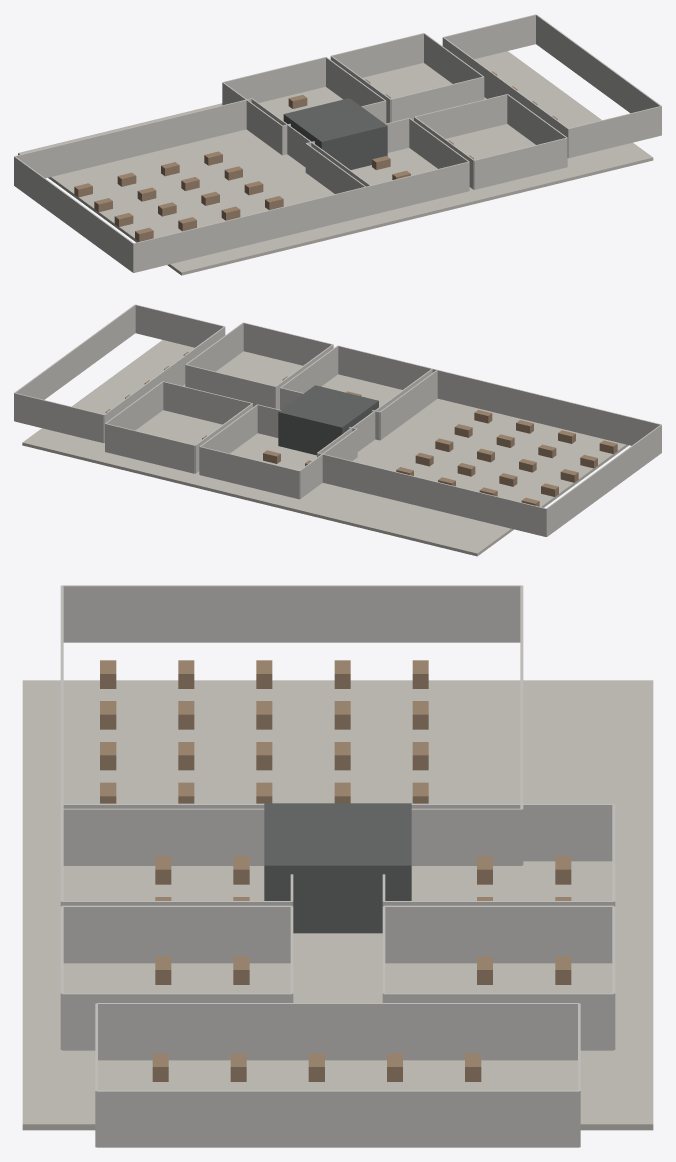
3 renders of one model, top to bottom at view 1: azimuth 30°, elevation 25°; view 2: azimuth 150°, elevation 25°; view 3: azimuth 270°, elevation 25°, orthographic. The views are drawn at different scales.
Visible parts, largest first — view 1: L4_slab, flex_neighborhood_north, flex_neighborhood_south, L4_core, flex_neighborhood_west, multipurpose_capacity_east, project_rooms_north, focus_north, multipurpose_capacity_north, collaboration_south, focus_south, quiet_restore_south (+14 smaller); view 2: L4_slab, flex_neighborhood_south, flex_neighborhood_north, L4_core, flex_neighborhood_west, multipurpose_capacity_east, collaboration_south, multipurpose_capacity_south, quiet_restore_south, project_rooms_north, focus_north, multipurpose_capacity_north (+14 smaller); view 3: L4_slab, multipurpose_capacity_east, multipurpose_capacity_west, flex_neighborhood_west, flex_neighborhood_east, L4_core, focus_west, quiet_restore_west, collaboration_west, focus_east, quiet_restore_east, project_rooms_west (+4 smaller).
Boxes of the visible parts, x1=… form: L4_slab: x1=18, y1=51, x2=653, y2=275; flex_neighborhood_north: x1=133, y1=186, x2=371, y2=272; flex_neighborhood_south: x1=14, y1=98, x2=251, y2=178; L4_core: x1=283, y1=98, x2=387, y2=169; flex_neighborhood_west: x1=14, y1=156, x2=133, y2=272; multipurpose_capacity_east: x1=536, y1=14, x2=661, y2=134; project_rooms_north: x1=366, y1=161, x2=469, y2=215; focus_north: x1=474, y1=137, x2=567, y2=189; multipurpose_capacity_north: x1=568, y1=106, x2=661, y2=157; collaboration_south: x1=223, y1=57, x2=325, y2=102; focus_south: x1=414, y1=94, x2=507, y2=138; quiet_restore_south: x1=331, y1=33, x2=424, y2=77; L4_slab: x1=22, y1=340, x2=628, y2=556; flex_neighborhood_south: x1=317, y1=453, x2=546, y2=536; flex_neighborhood_north: x1=432, y1=369, x2=661, y2=445; L4_core: x1=278, y1=385, x2=378, y2=455; flex_neighborhood_west: x1=546, y1=424, x2=661, y2=536; multipurpose_capacity_east: x1=14, y1=304, x2=135, y2=420; collaboration_south: x1=199, y1=446, x2=299, y2=499; multipurpose_capacity_south: x1=14, y1=393, x2=104, y2=443; quiet_restore_south: x1=105, y1=423, x2=194, y2=473; project_rooms_north: x1=338, y1=345, x2=436, y2=389; focus_north: x1=243, y1=322, x2=332, y2=365; multipurpose_capacity_north: x1=135, y1=304, x2=224, y2=347; L4_slab: x1=22, y1=680, x2=653, y2=1130; multipurpose_capacity_east: x1=96, y1=1090, x2=579, y2=1147; multipurpose_capacity_west: x1=96, y1=1003, x2=579, y2=1060; flex_neighborhood_west: x1=62, y1=585, x2=521, y2=642; flex_neighborhood_east: x1=62, y1=808, x2=521, y2=865; L4_core: x1=264, y1=803, x2=411, y2=933; focus_west: x1=62, y1=905, x2=291, y2=963; quiet_restore_west: x1=384, y1=905, x2=613, y2=963; collaboration_west: x1=411, y1=803, x2=613, y2=861; focus_east: x1=62, y1=993, x2=291, y2=1050; quiet_restore_east: x1=384, y1=993, x2=613, y2=1050; project_rooms_west: x1=63, y1=803, x2=264, y2=808.
Bounding box in the file's own units: 52.12 × 3.54 × 27.43.
